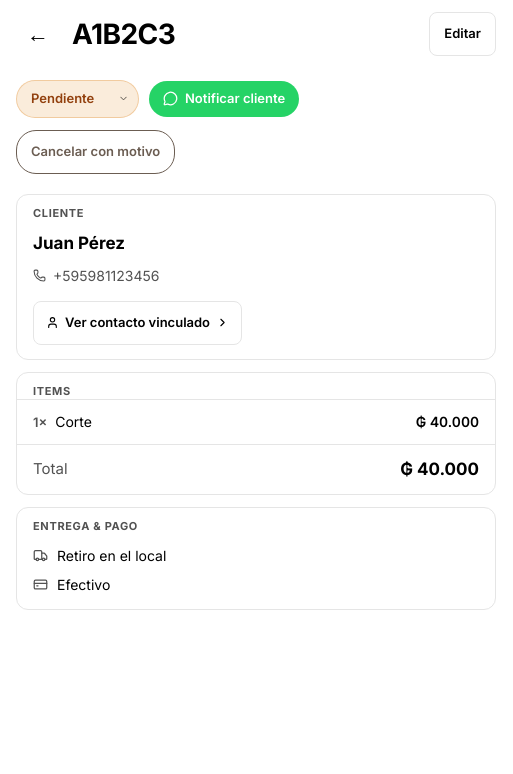
Test case: OrderDetailPage (REQ: order detail + full edit) › Cancelar con motivo (O-8) › disables the confirm button until a reason is typed
The image size is (513, 774).
Expected: the text "Juan Pérez" is shown, left=33, top=233, right=125, bottom=253
Click the button "Cancelar con motivo": (96, 152) left=16, top=130, right=175, bottom=174
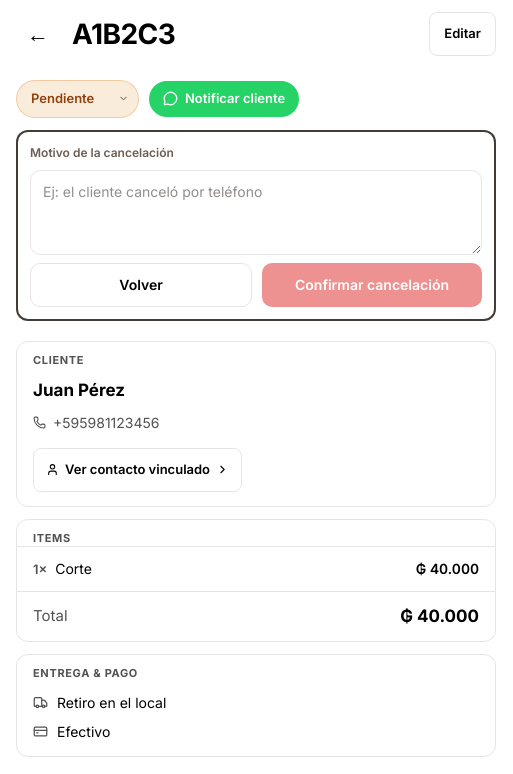
Result: the button "Confirmar cancelación" is disabled at left=262, top=262, right=482, bottom=306
In the text box labelled "Motivo de la cancelación": (256, 212) left=30, top=170, right=482, bottom=254, type "el cliente llamó"
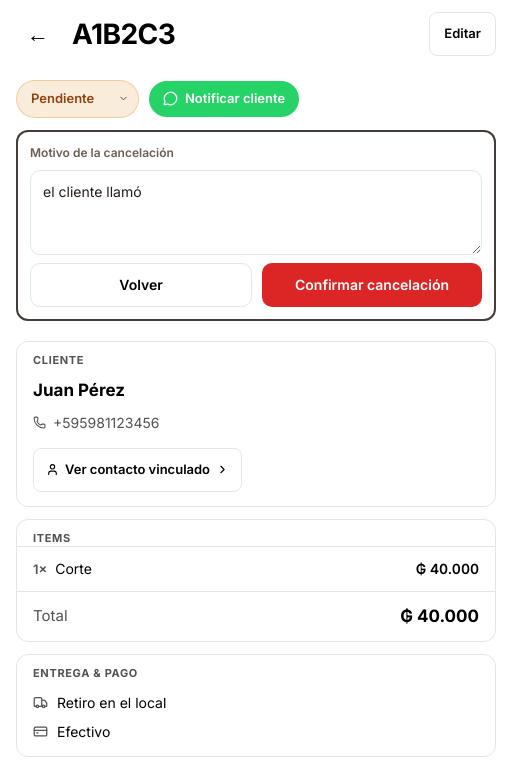
Result: the button "Confirmar cancelación" is enabled at left=262, top=262, right=482, bottom=306
